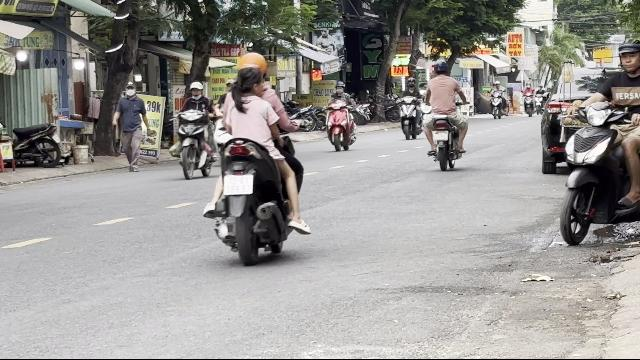helmet: (233, 52, 267, 88), (233, 52, 267, 78), (617, 42, 639, 72), (188, 80, 204, 100), (432, 60, 450, 76)
licenseplate: (224, 175, 252, 195), (433, 130, 447, 140)
motorcyclist: (203, 47, 309, 264), (556, 37, 640, 245), (422, 58, 468, 170), (172, 79, 214, 179)
nohelmet: (233, 55, 265, 93)
